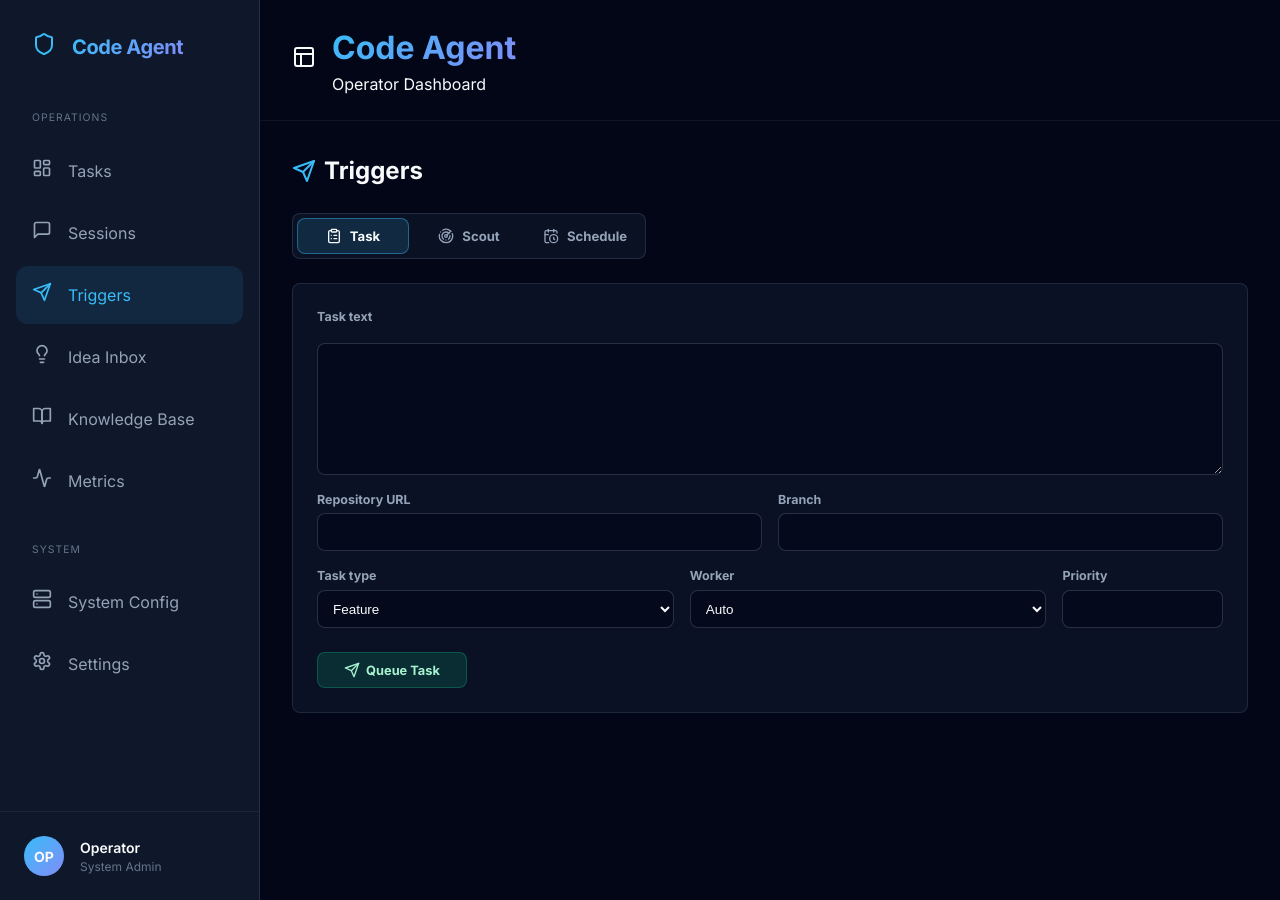
TriggerActionsPage › submits a dashboard task payload and shows the queued task id
Type "  Add a dashboard trigger tab  " into the text box labelled "Task text" at (770, 409), box [317,343,1223,475]
Type "  https://github.com/example/repo  " into the field labelled "Repository URL" at (540, 532), box [317,513,762,551]
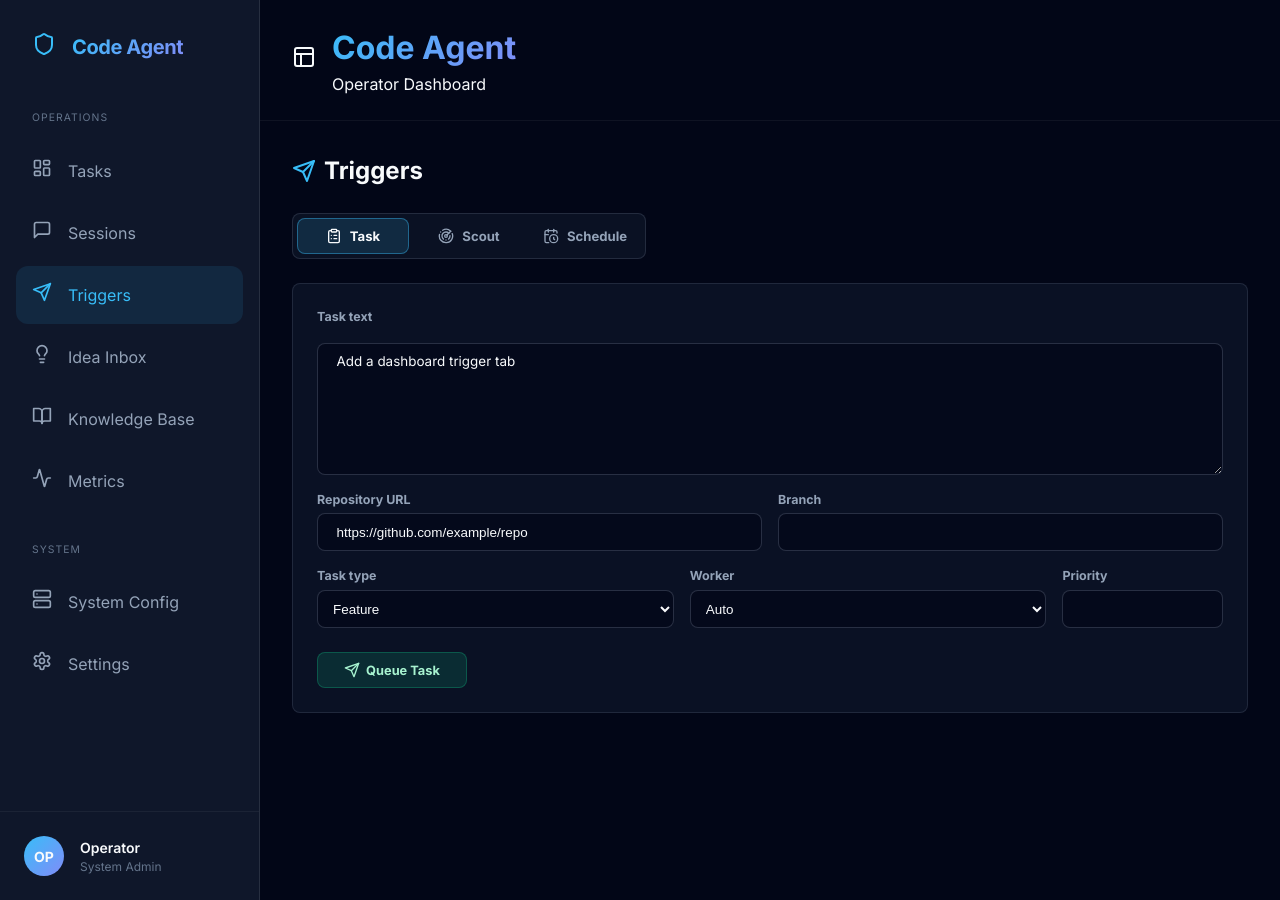
Type " main " into the field labelled "Branch" at (1000, 532), box [778,513,1223,551]
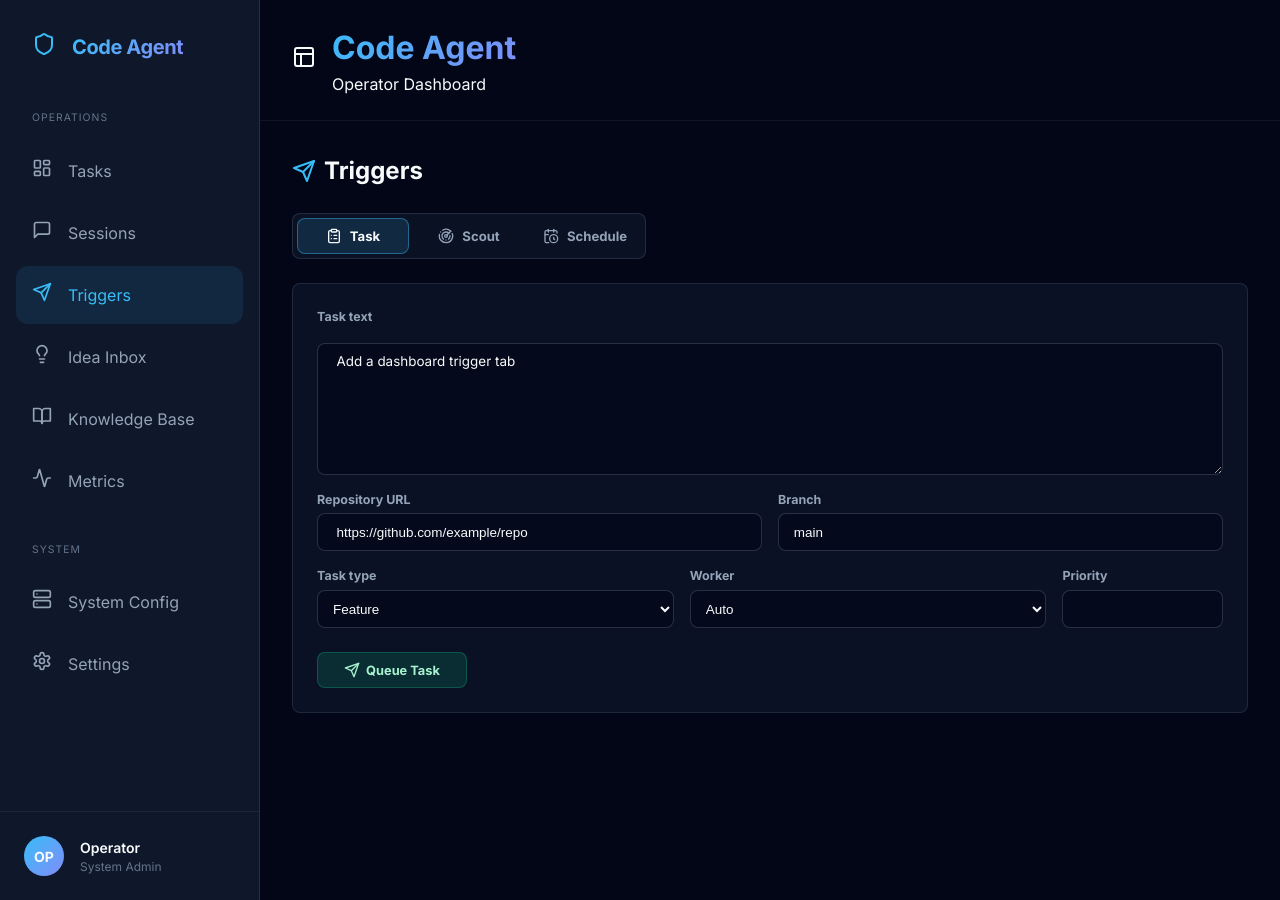
Select "Bugfix" in the dropdown labelled "Task type" at (495, 609), box [317,590,674,628]
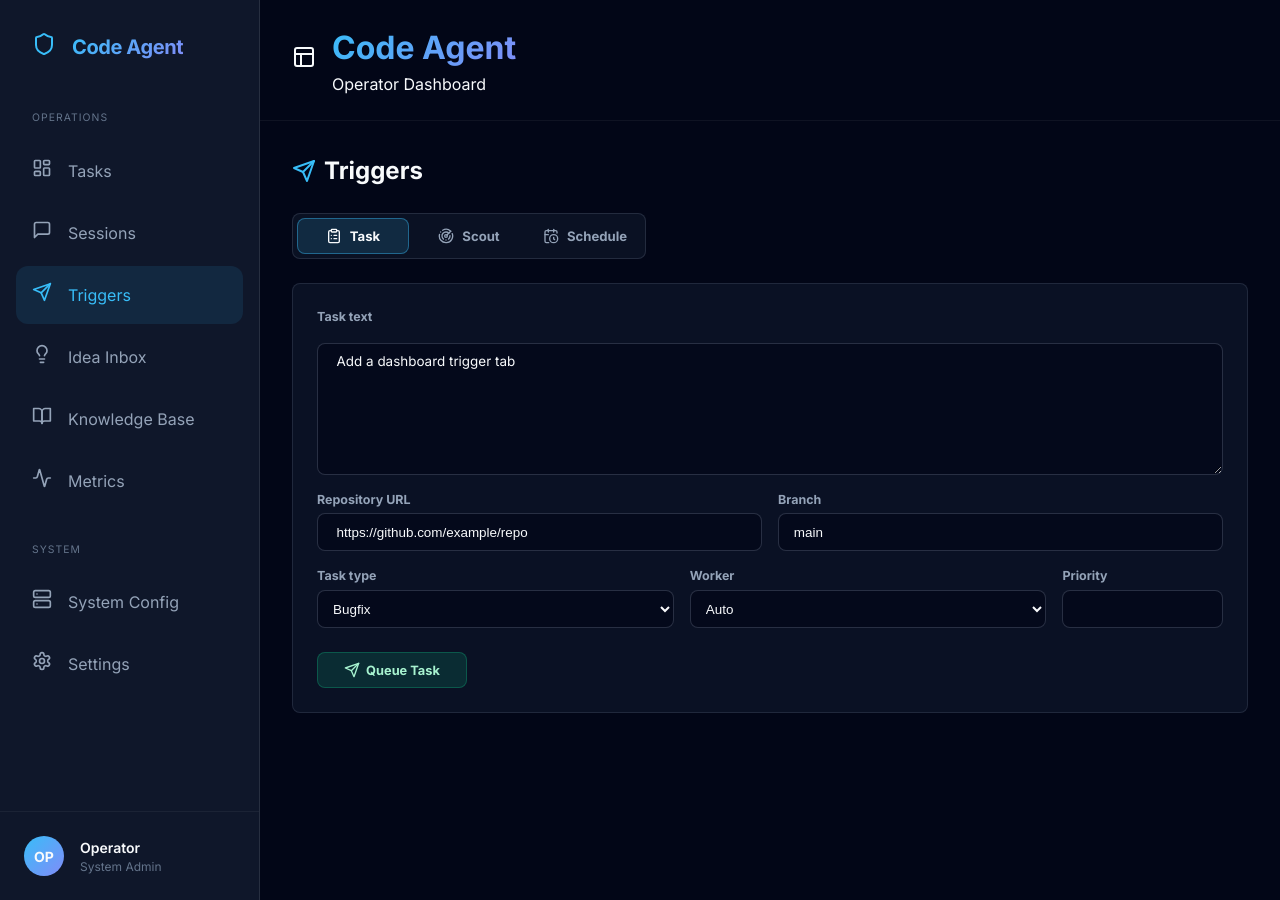
Select "Codex" in the dropdown labelled "Worker" at (868, 609), box [690,590,1046,628]
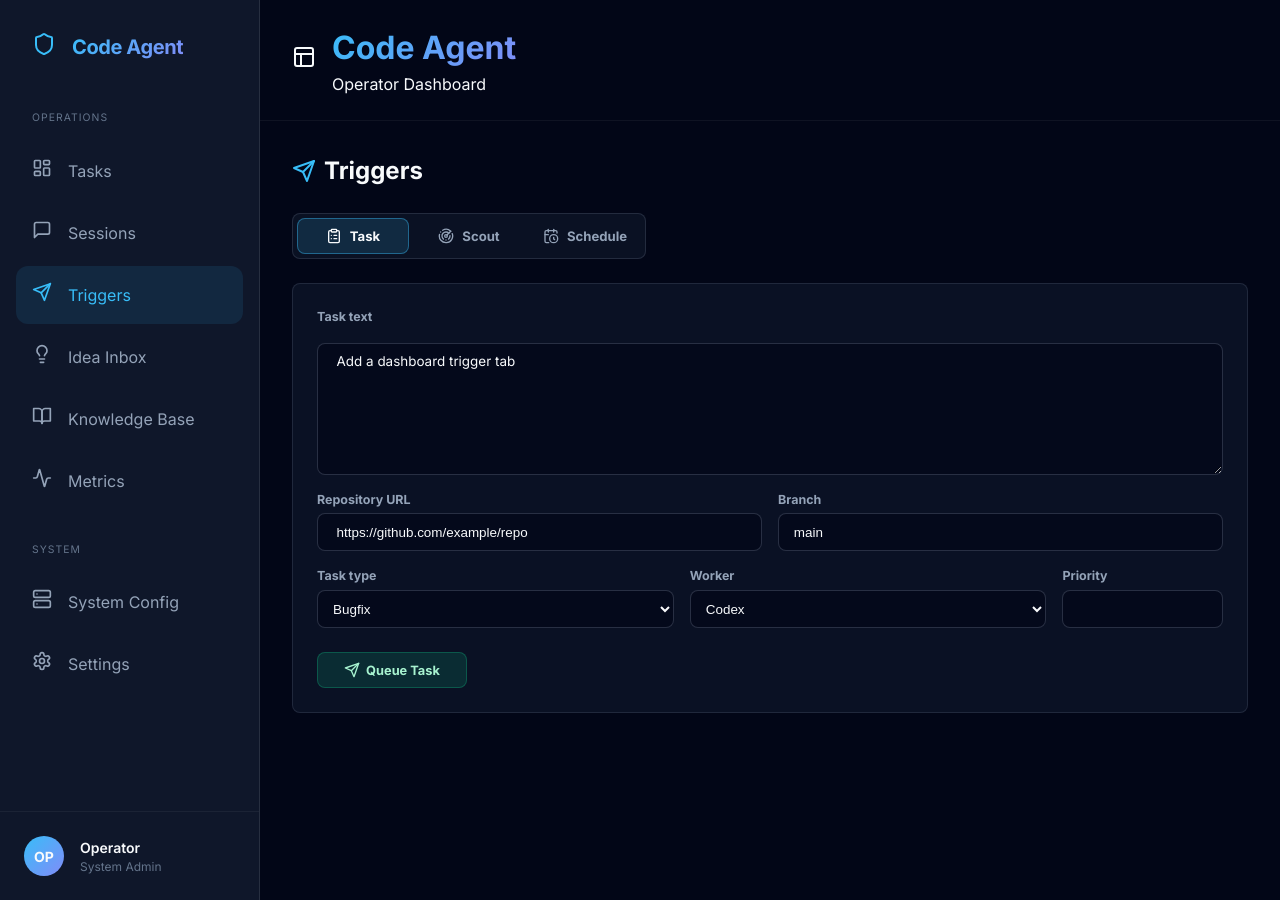
Type "2" into the number field labelled "Priority" at (1143, 609), box [1062,590,1223,628]
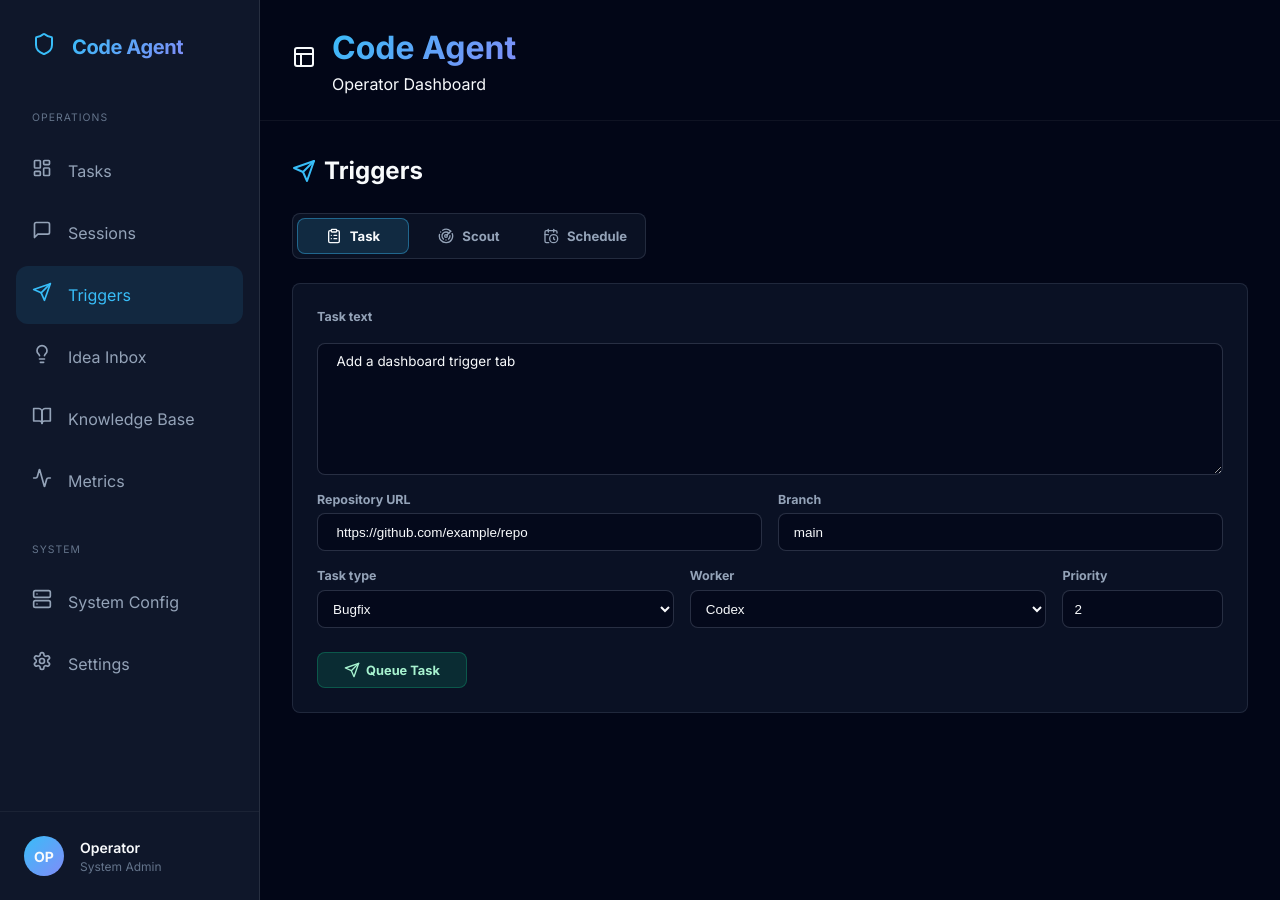
Click the button "Queue Task" at (392, 670), box [317,652,467,688]
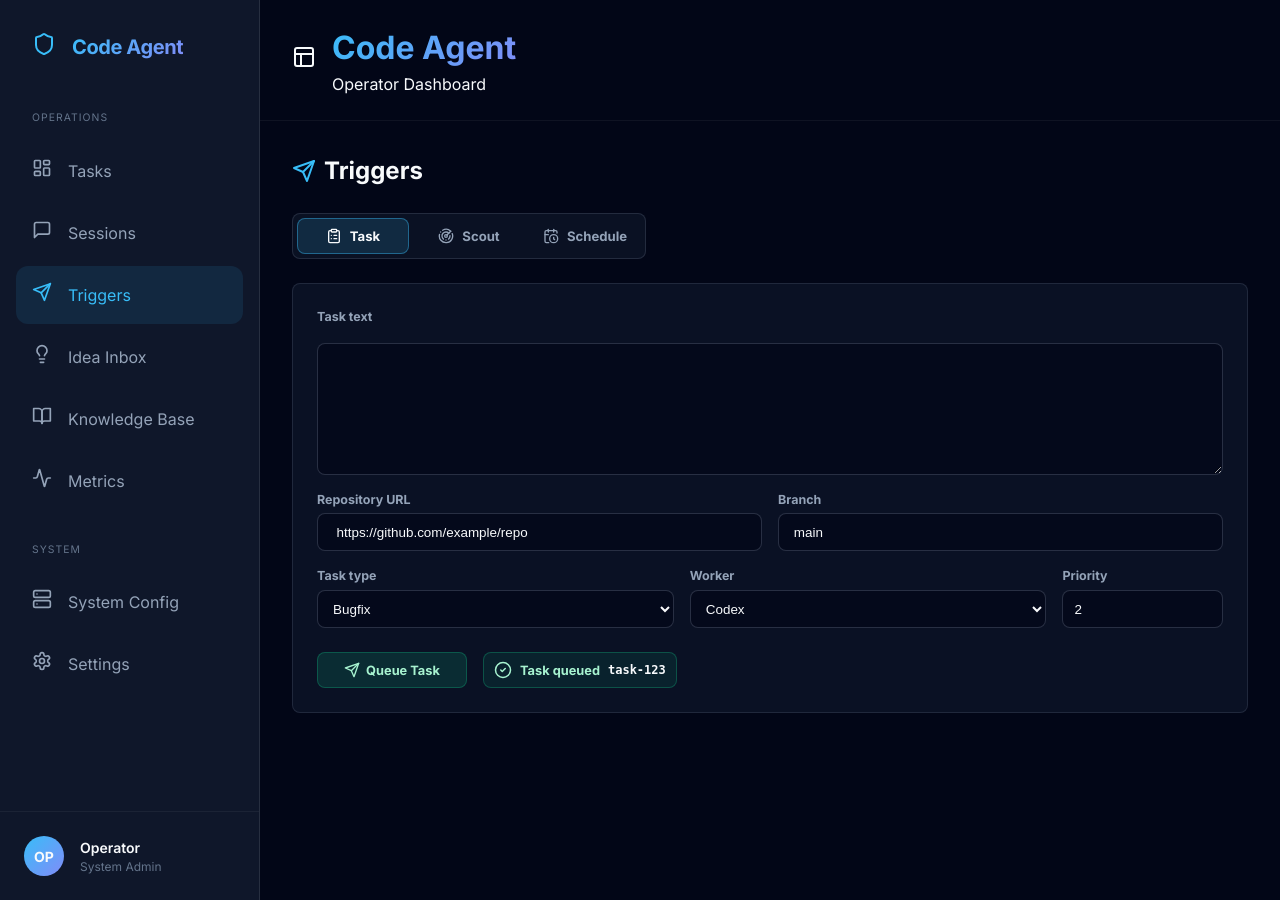
Check: the text "Task queued" is shown, box [520,661,600,680]
Check: the text "task-123" is shown, box [608,661,666,679]
Check: the message shows "Task queued", box [520,663,600,678]
